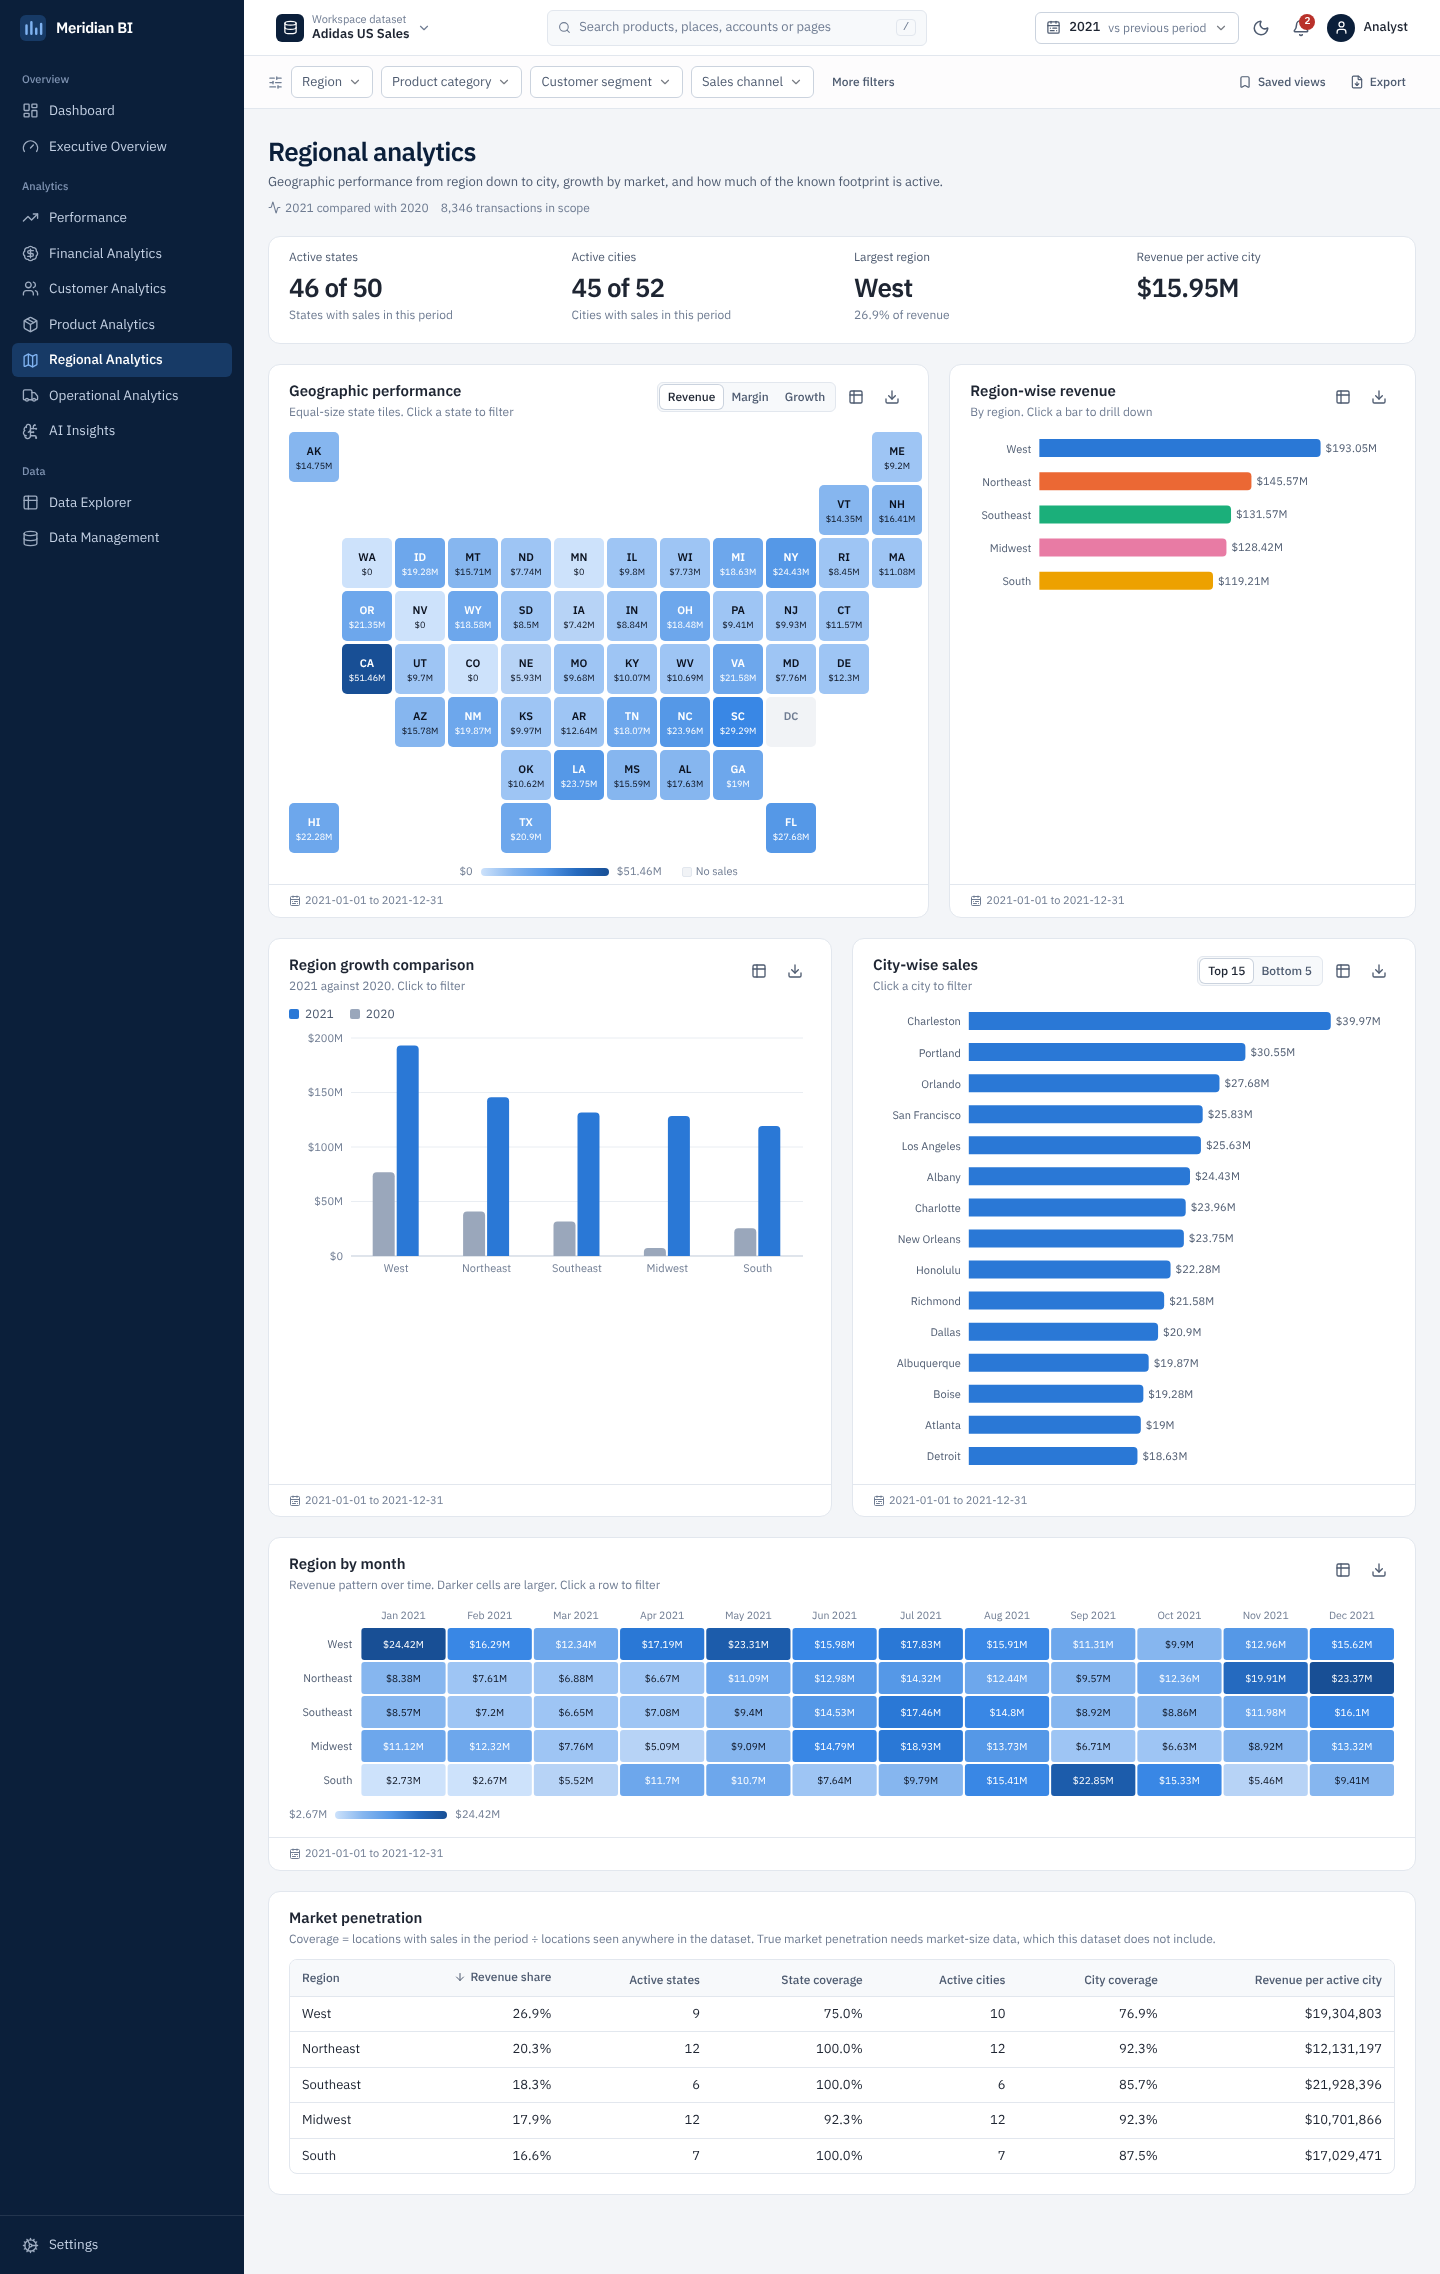

What the dashboard file says about the page in this screenshot:
{"tool":"powerbi","page":{"name":"Regional Analytics","canvas":[1280,720],"ordinal":3},"visuals":[{"type":"textbox","box":[0,0,1280,64],"z":1000},{"type":"slicer","fields":{"Values":["Calendar.Year"]},"box":[16,72,200,52],"z":2000},{"type":"slicer","fields":{"Values":["Geography.Region"]},"box":[224,72,200,52],"z":3000},{"type":"slicer","fields":{"Values":["Product.Product Category"]},"box":[432,72,200,52],"z":4000},{"type":"slicer","fields":{"Values":["Product.Gender"]},"box":[640,72,200,52],"z":5000},{"type":"slicer","fields":{"Values":["Sales Method.Sales Method"]},"box":[848,72,200,52],"z":6000},{"type":"slicer","fields":{"Values":["Retailer.Retailer"]},"box":[1056,72,200,52],"z":7000},{"type":"clusteredBarChart","title":"Revenue by region (drill down to state and city)","fields":{"Category":["Geography.Region","Geography.State","Geography.City"],"Y":["_Measures.Total Revenue"]},"box":[16,136,400,270],"z":8000},{"type":"treemap","title":"Revenue by state","fields":{"Group":["Geography.State"],"Values":["_Measures.Total Revenue"]},"box":[428,136,836,270],"z":9000},{"type":"clusteredColumnChart","title":"Regional revenue, current vs prior year","fields":{"Category":["Geography.Region"],"Y":["_Measures.Total Revenue","_Measures.Revenue PY"]},"box":[16,418,500,286],"z":10000},{"type":"tableEx","title":"City-wise sales","fields":{"Values":["Geography.City","Geography.State","Geography.Region","_Measures.Total Revenue","_Measures.Revenue Share","_Measures.Operating Margin","_Measures.Revenue YoY %"]},"box":[528,418,736,286],"z":11000}]}

Visuals, with their boxes on the page's 1280x720 design canvas (x1, y1, x2, y2). These are canvas units, not pixel positions in the 1440x2274 screenshot, which may show the page scaled, cropped or inside an application window:
textbox: left=0, top=0, right=1280, bottom=64
slicer - Calendar.Year: left=16, top=72, right=216, bottom=124
slicer - Geography.Region: left=224, top=72, right=424, bottom=124
slicer - Product.Product Category: left=432, top=72, right=632, bottom=124
slicer - Product.Gender: left=640, top=72, right=840, bottom=124
slicer - Sales Method.Sales Method: left=848, top=72, right=1048, bottom=124
slicer - Retailer.Retailer: left=1056, top=72, right=1256, bottom=124
"Revenue by region (drill down to state and city)" clusteredBarChart: left=16, top=136, right=416, bottom=406
"Revenue by state" treemap: left=428, top=136, right=1264, bottom=406
"Regional revenue, current vs prior year" clusteredColumnChart: left=16, top=418, right=516, bottom=704
"City-wise sales" tableEx: left=528, top=418, right=1264, bottom=704
